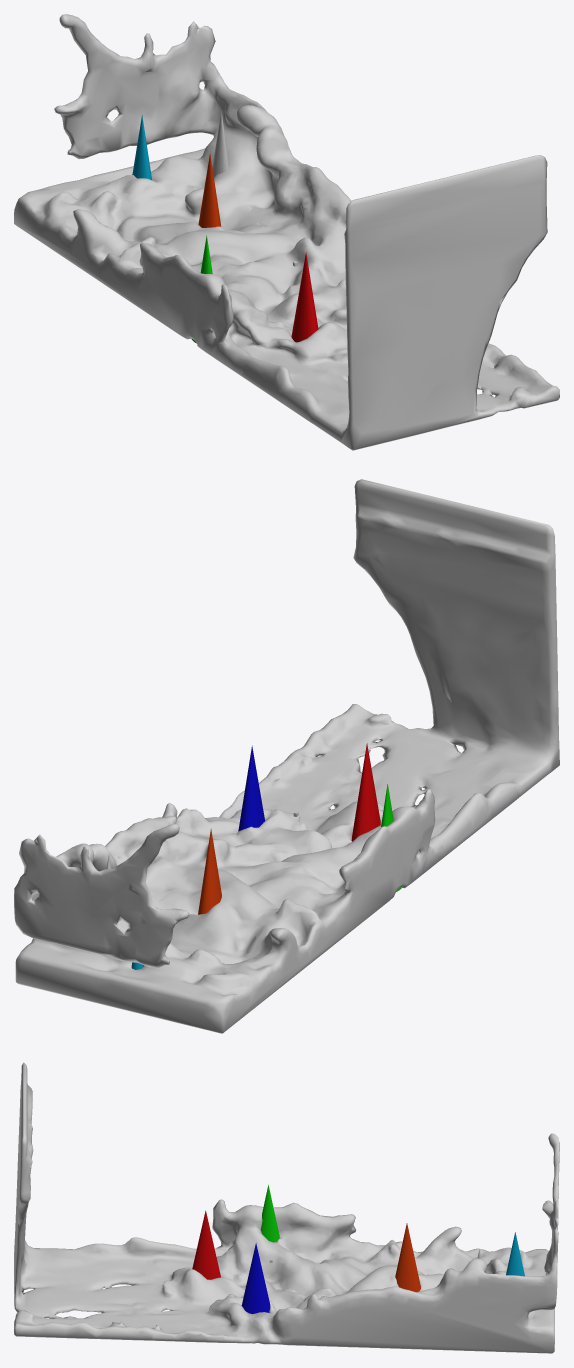
3 views of the same model, one above another, from view 1: azimuth 30°, elevation 25°; view 2: azimuth 150°, elevation 25°; view 3: azimuth 270°, elevation 25° (orthographic). The views are drawn at different scales.
Visible parts, largest first — view 1: Liquid_Domain, 円錐.001, 円錐.004, 円錐.005, 円錐; view 2: Liquid_Domain, 円錐.001, 円錐.002, 円錐.004; view 3: Liquid_Domain, 円錐.002, 円錐.001, 円錐.004, 円錐.003, 円錐.005.
Part boxes in pixels (<box>): Liquid_Domain: <box>14,14,559,450</box>; 円錐.001: <box>291,252,318,342</box>; 円錐.004: <box>198,153,221,227</box>; 円錐.005: <box>132,115,151,180</box>; 円錐: <box>212,111,229,176</box>; Liquid_Domain: <box>14,479,559,1033</box>; 円錐.001: <box>351,743,380,841</box>; 円錐.002: <box>238,745,264,831</box>; 円錐.004: <box>198,828,221,914</box>; Liquid_Domain: <box>14,1062,559,1353</box>; 円錐.002: <box>241,1243,270,1313</box>; 円錐.001: <box>192,1210,220,1279</box>; 円錐.004: <box>395,1223,420,1292</box>; 円錐.003: <box>260,1184,279,1242</box>; 円錐.005: <box>506,1232,524,1276</box>.
Bounding box in the file's own units: 129 × 157 × 364.
